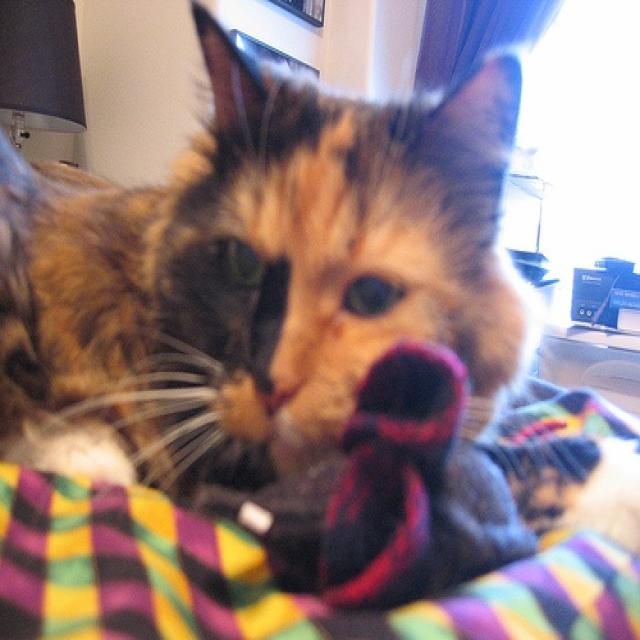cat: (27, 2, 544, 495)
